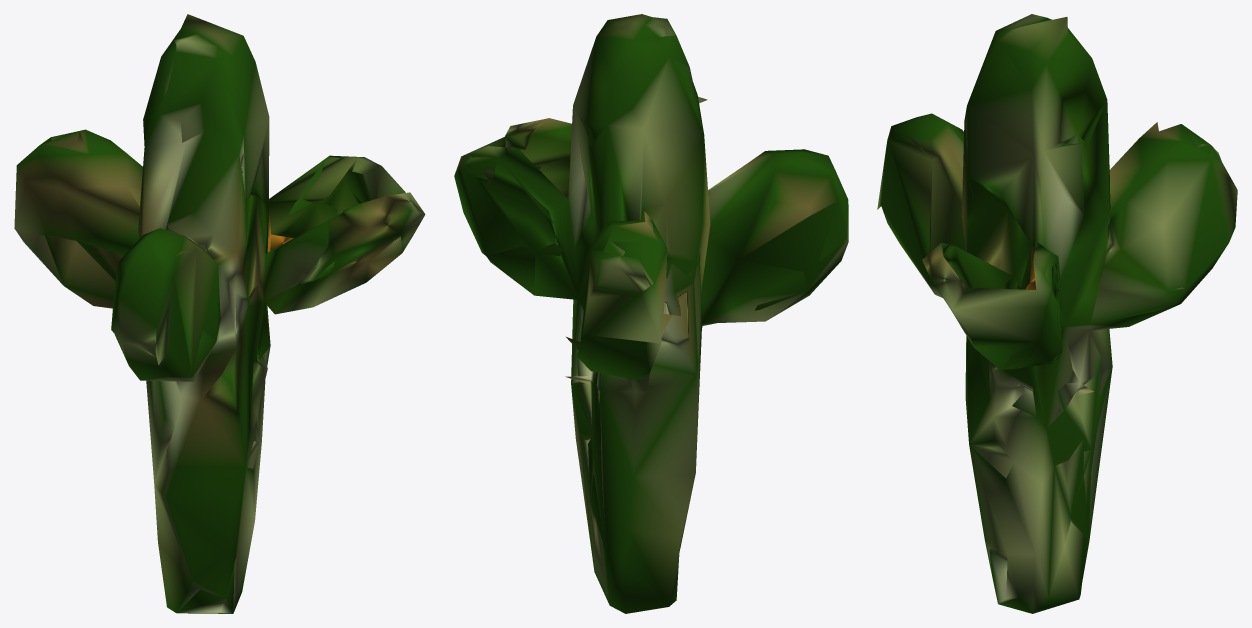
File: gen3d-prickly-pear-cactus-lod1.glb
The picture shows the model from 3 angles, left to right: view 1: azimuth 30°, elevation 25°; view 2: azimuth 150°, elevation 25°; view 3: azimuth 270°, elevation 25°; orthographic projection.
Visible parts, largest first — view 1: part_0; view 2: part_0; view 3: part_0.
Part boxes in pixels (bbox=[...]): part_0: bbox=[14, 14, 425, 613]; part_0: bbox=[454, 14, 848, 613]; part_0: bbox=[877, 14, 1237, 613].
Bounding box in the file's own units: 0.5869 × 0.984 × 0.5525.
